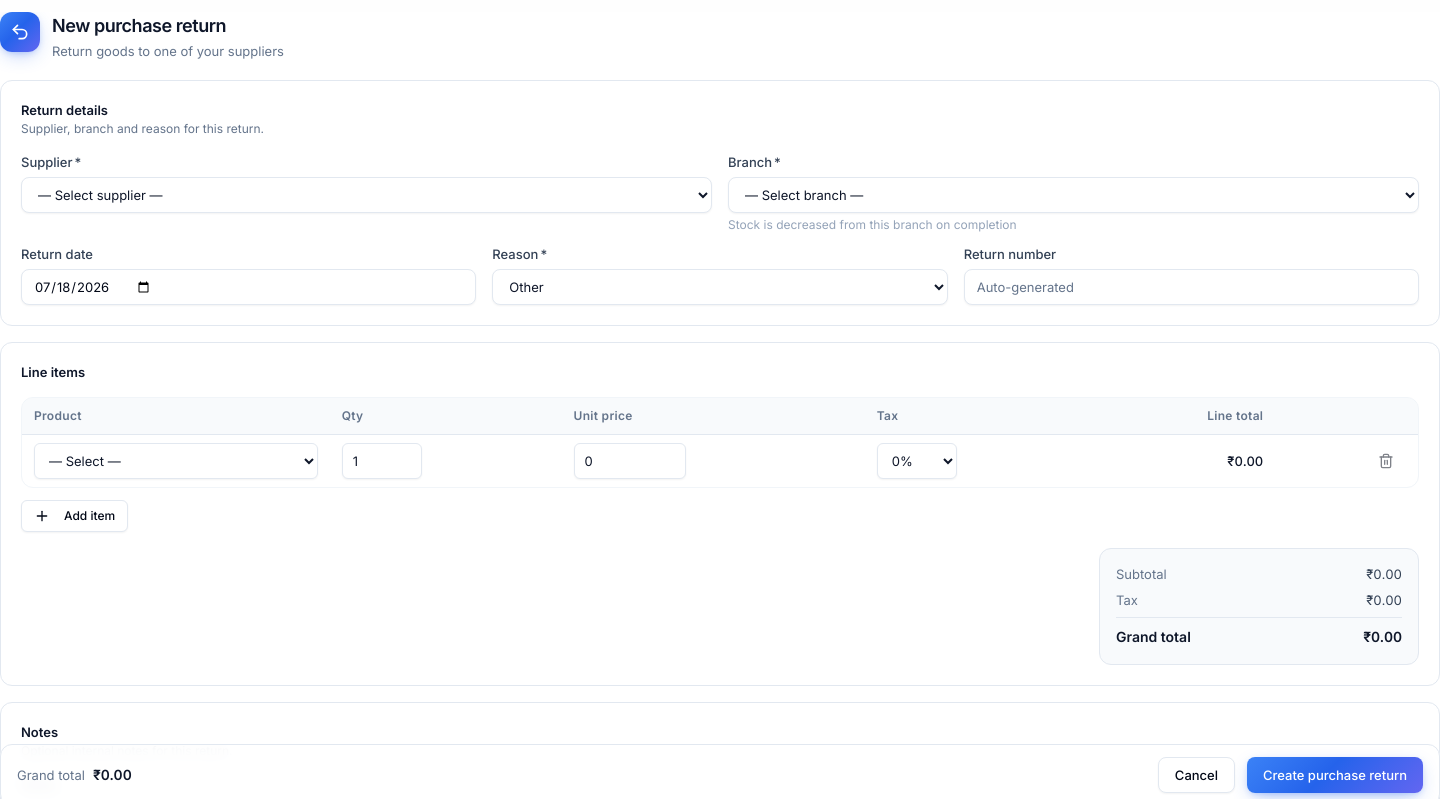
Test: PurchaseReturnForm › surfaces a server error
Select "Acme Supply" in the dropdown labelled "Supplier*". click: {"x": 366, "y": 195}
box: [21, 177, 712, 213]
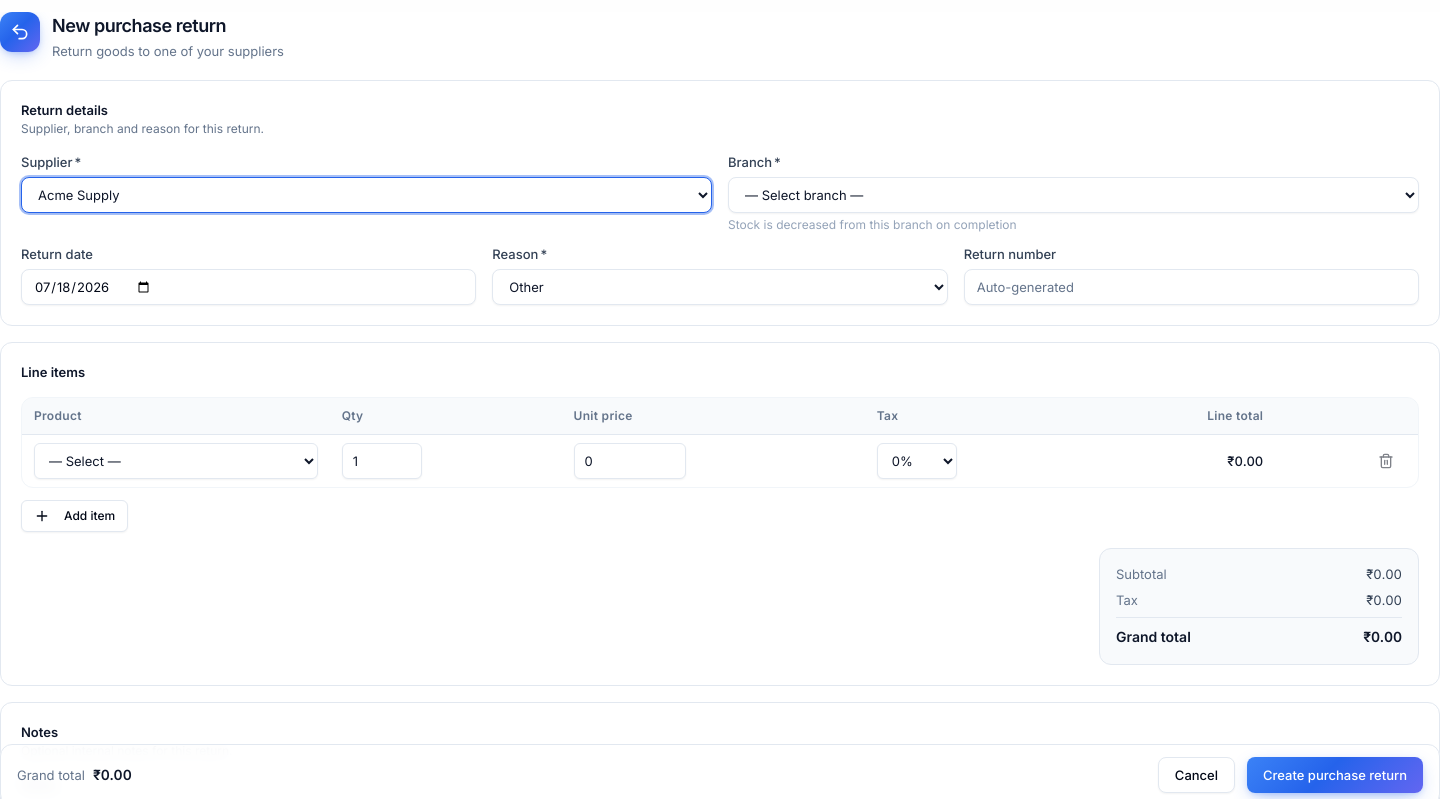
Select "Main WH" in the dropdown labelled "Branch*". click: {"x": 1074, "y": 195}
box: [728, 177, 1419, 213]
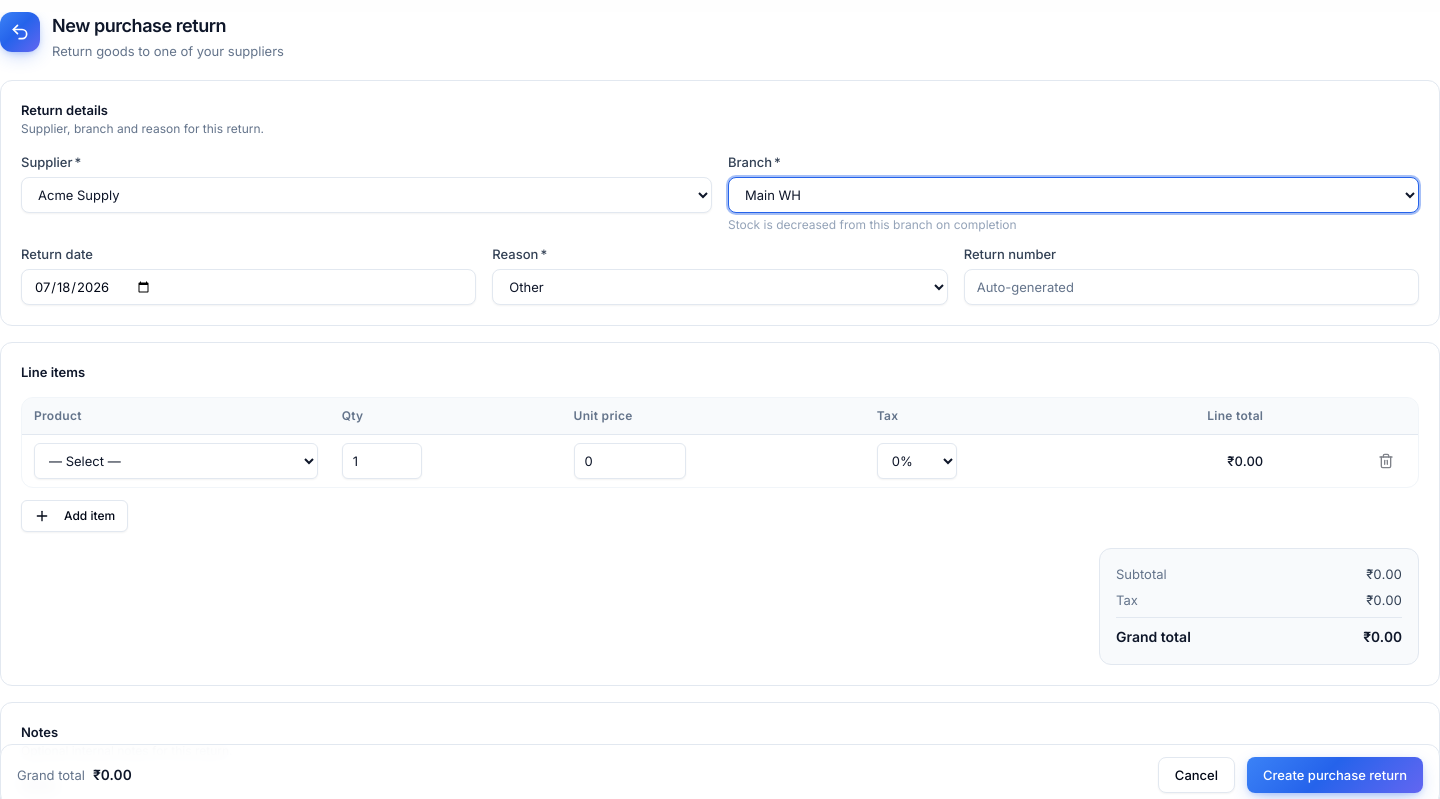
Select "Widget" in the dropdown named "Product for line 1". click: {"x": 176, "y": 460}
box: [34, 442, 318, 478]
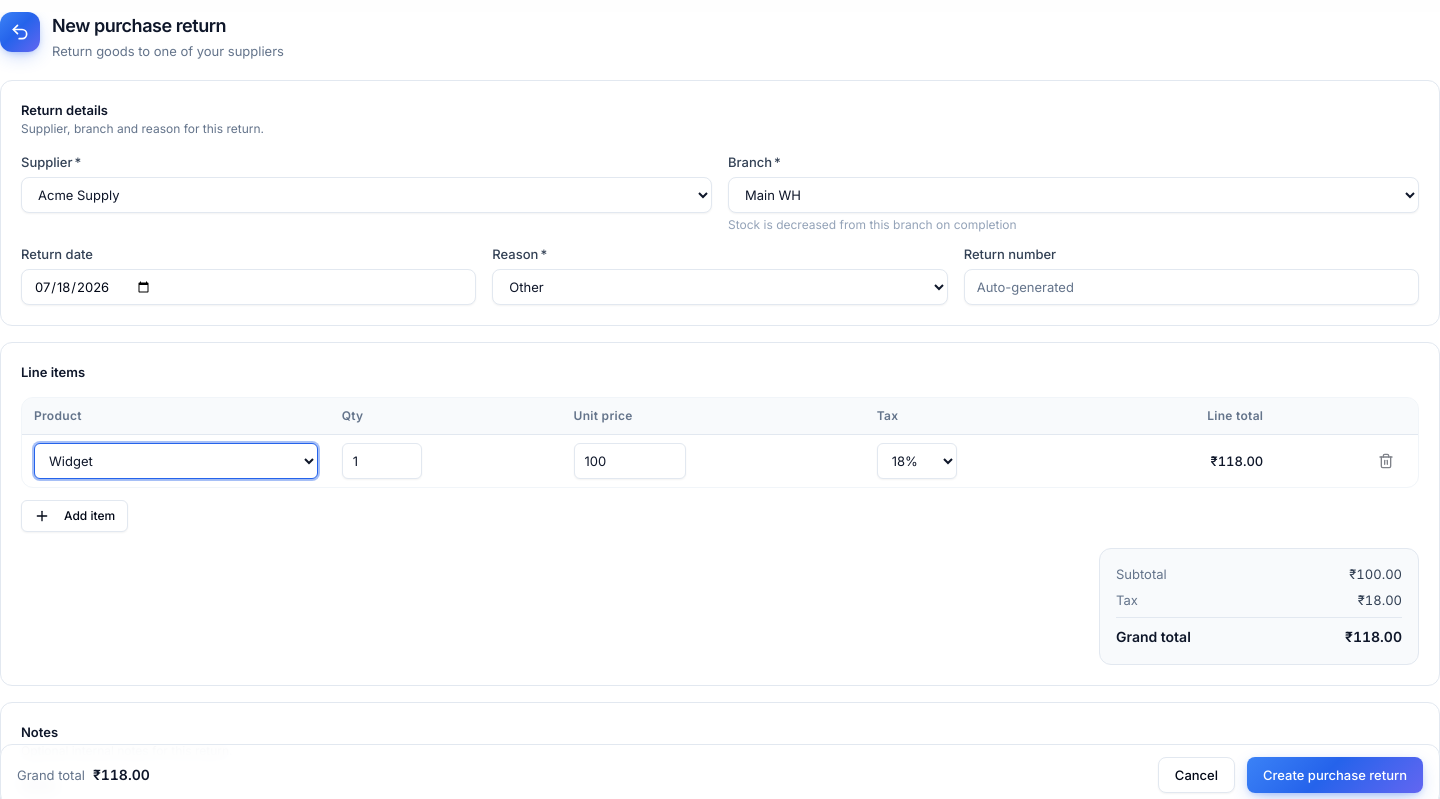
Click the button "Create purchase return". click: {"x": 1335, "y": 775}
box: [1247, 757, 1423, 793]
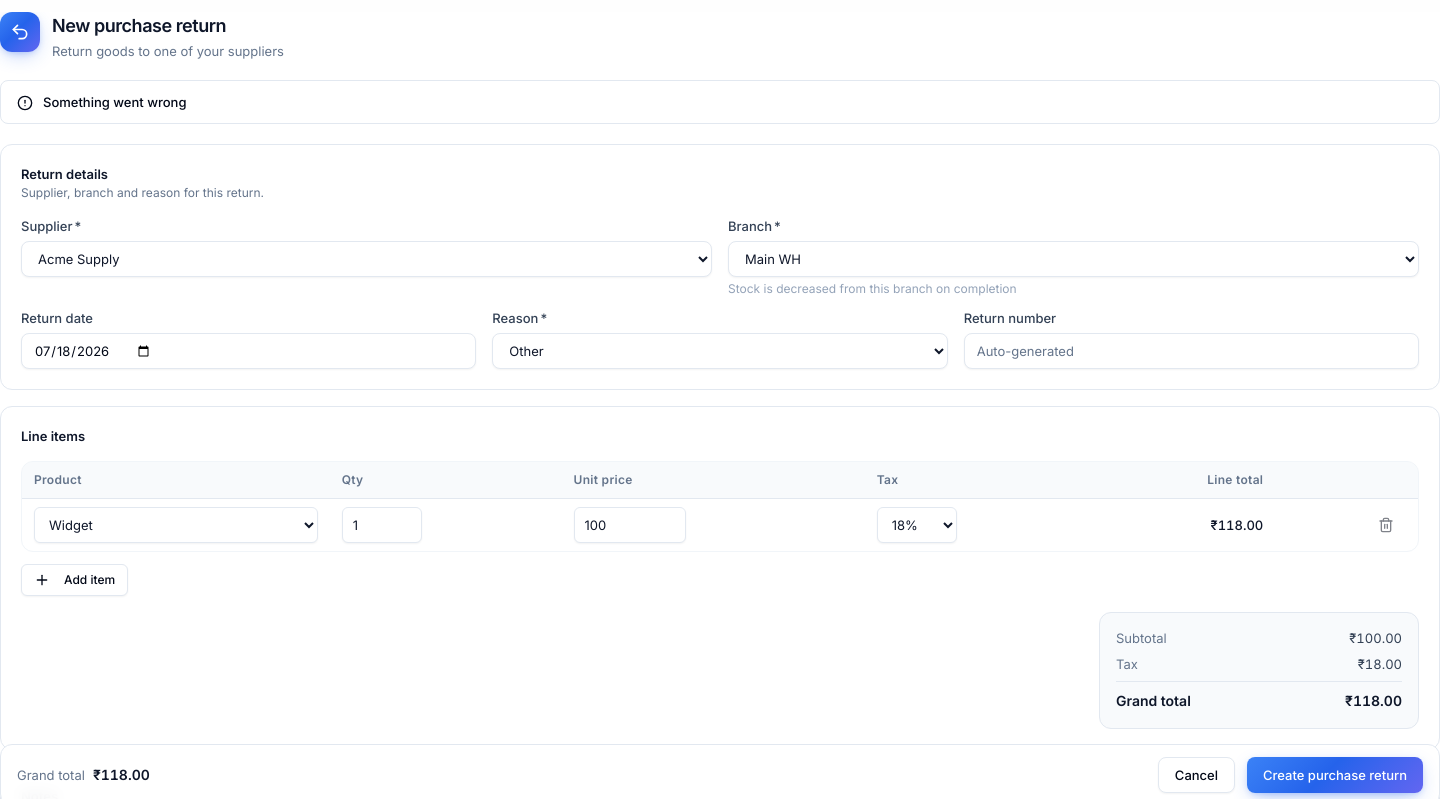
Now the text "Something went wrong" is shown, box [43, 93, 186, 111]
